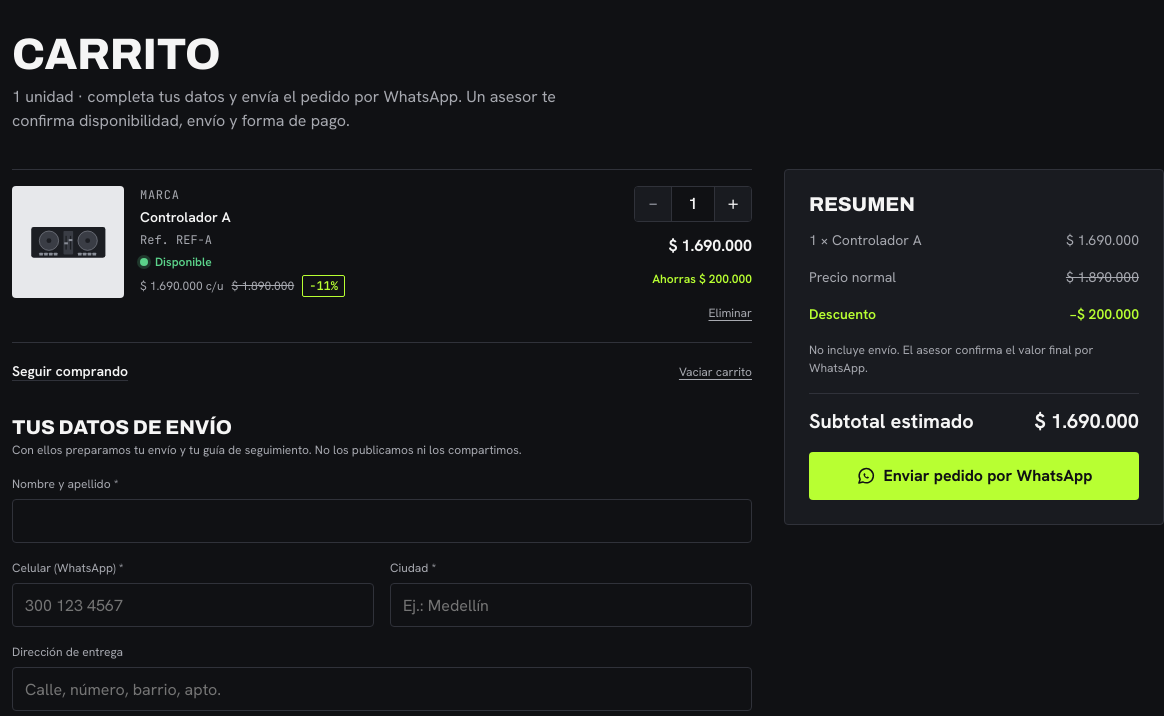
Test case: Pedido desde el carrito › pide los datos antes de enviar y no abre WhatsApp si faltan
Click the button with test id "send-whatsapp".
click(974, 476)  # box [809,452,1139,500]
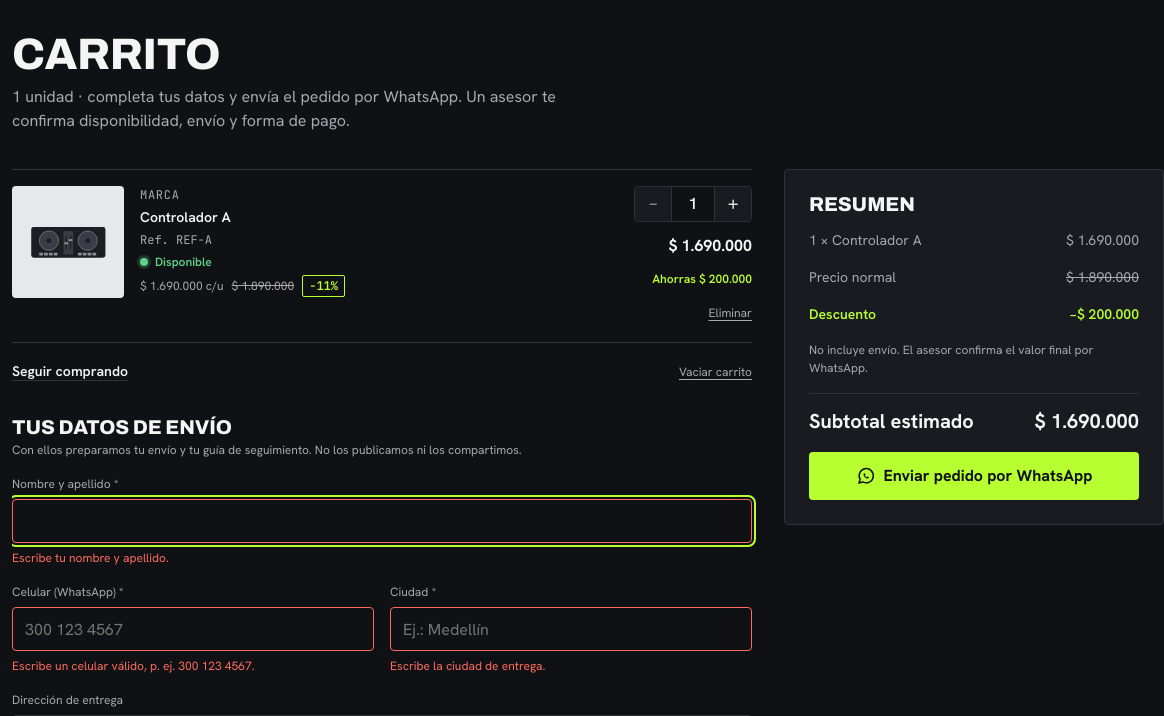
Result: the text "Escribe tu nombre y apellido." is shown at [12,550,169,566]
Result: the text "Escribe un celular válido, p. ej. 300 123 4567." is shown at [12,658,254,674]
Result: the text "Escribe la ciudad de entrega." is shown at [390,658,545,674]
